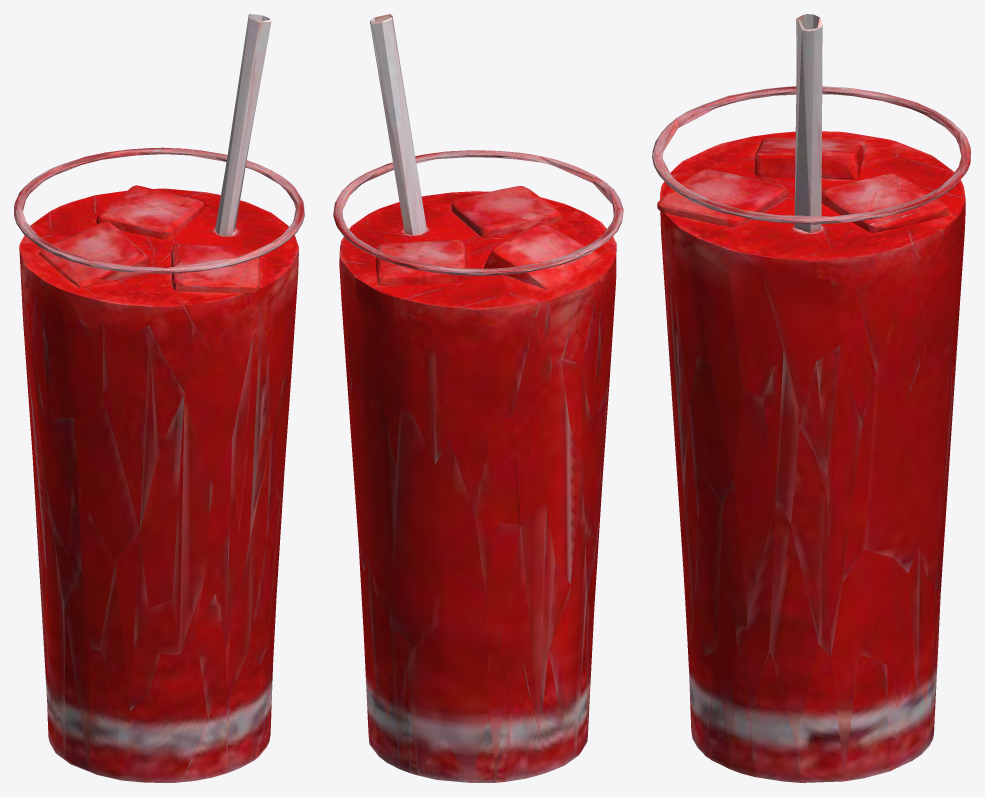
Rendered from w3glass.glb.
3 views of the same model, side by side, from view 1: azimuth 30°, elevation 25°; view 2: azimuth 150°, elevation 25°; view 3: azimuth 270°, elevation 25° (orthographic). The views are drawn at different scales.
Visible parts, largest first — view 1: output_unwrapped; view 2: output_unwrapped; view 3: output_unwrapped.
Boxes of the visible parts, x1,y1,x2,y2 form: output_unwrapped: (14,14,304,782); output_unwrapped: (333,14,623,782); output_unwrapped: (652,14,970,782).
Bounding box in the file's own units: 0.0566 × 0.15 × 0.0565.
Materials: 1 (1 with a texture image).
